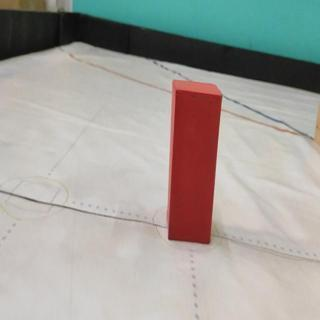redbox: (167, 79, 223, 244)
